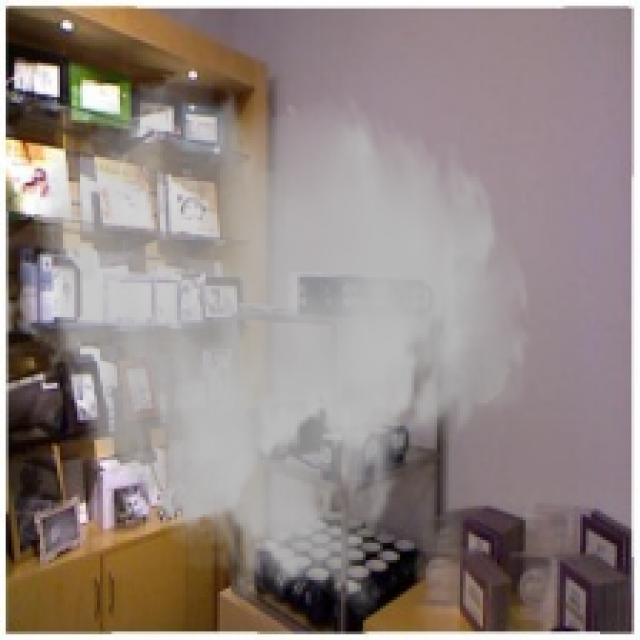smoke: (3, 69, 534, 620)
